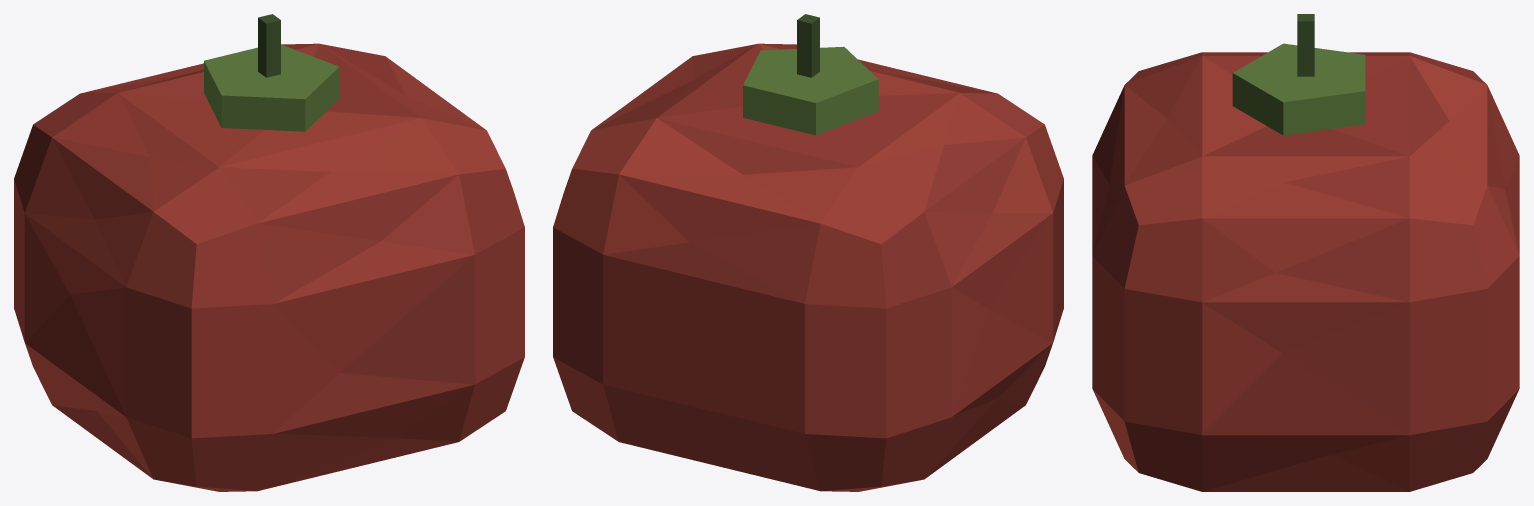
File: veg_potato_pomidor_idle.glb
3 views of the same model, side by side, from view 1: azimuth 30°, elevation 25°; view 2: azimuth 150°, elevation 25°; view 3: azimuth 270°, elevation 25° (orthographic). The views are drawn at different scales.
Parts seen in each view (by area): view 1: veg_potato_pomidor_idle; view 2: veg_potato_pomidor_idle; view 3: veg_potato_pomidor_idle.
Part boxes in pixels (box(x1,y1,x2,y2)): veg_potato_pomidor_idle: box(14, 14, 524, 491); veg_potato_pomidor_idle: box(553, 14, 1063, 491); veg_potato_pomidor_idle: box(1092, 14, 1519, 491).
Size of the model in its own units: 0.075 by 0.076 by 0.07.
1 material, 1 textured.
